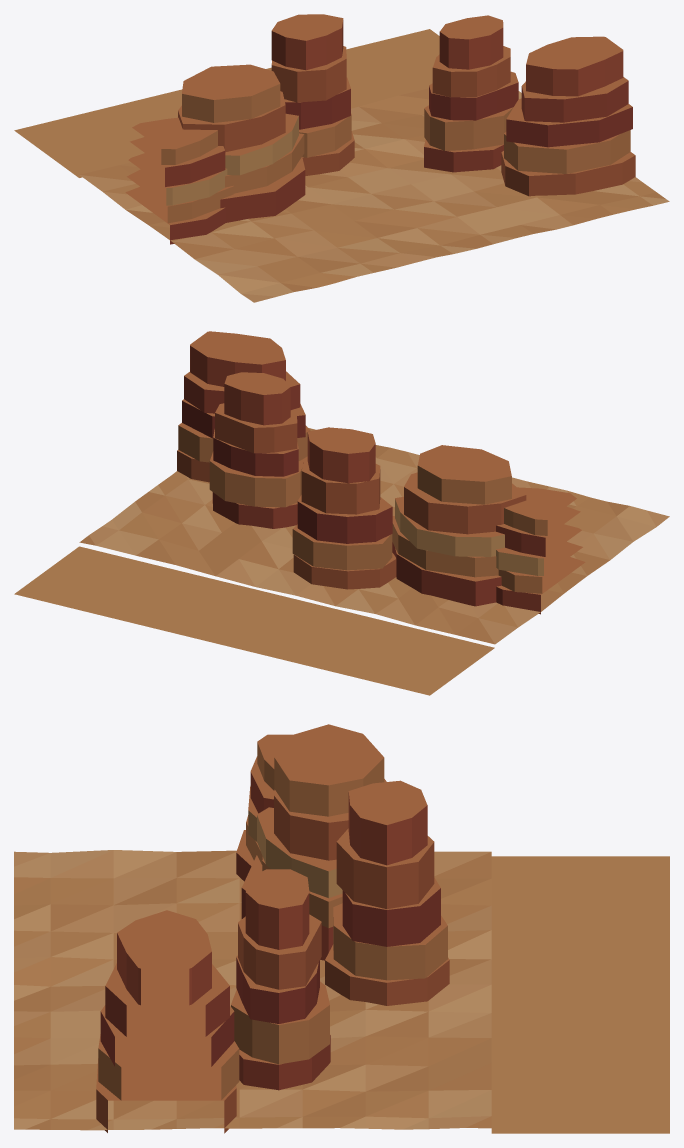
3 renders of one model, top to bottom at view 1: azimuth 30°, elevation 25°; view 2: azimuth 150°, elevation 25°; view 3: azimuth 270°, elevation 25°, orthographic. The views are drawn at different scales.
Parts seen in each view (by area): view 1: baked; view 2: baked; view 3: baked.
Part boxes in pixels (x1,y1,x2,y2): baked: [14, 14, 669, 302]; baked: [14, 331, 669, 695]; baked: [14, 724, 669, 1133].
Bounding box in the file's own units: 125 × 38.2 × 125.
